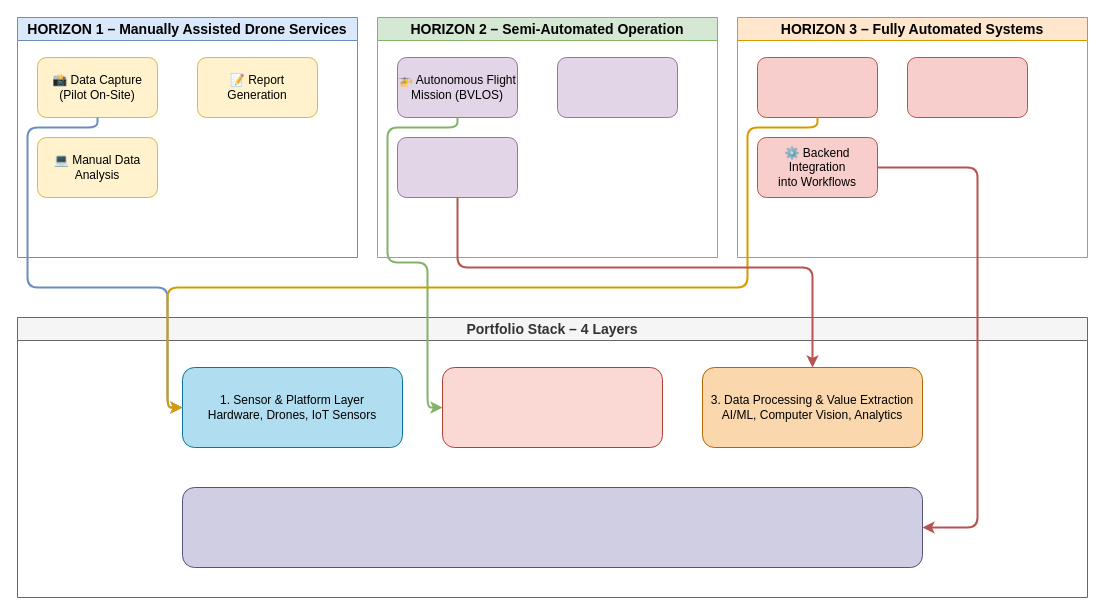
Some shapes in this 1105 by 615 pixel diagram are drawn without their labels. Each missing label, with the centre of its shape:
2. Automation & Autonomy Layer Flight Control, Path Planning, Safety: [552,407]
4. Integration & Decision Support APIs, Dashboards, Workflow Automation: [552,527]
🏗️ System Optimization via Feedback Loops: [967,87]
🗂️ Integrated Results Platform: [617,87]
🛰️ Data on Demand (via API): [817,87]
🧠 Data Classification (AI-Assisted): [457,167]
